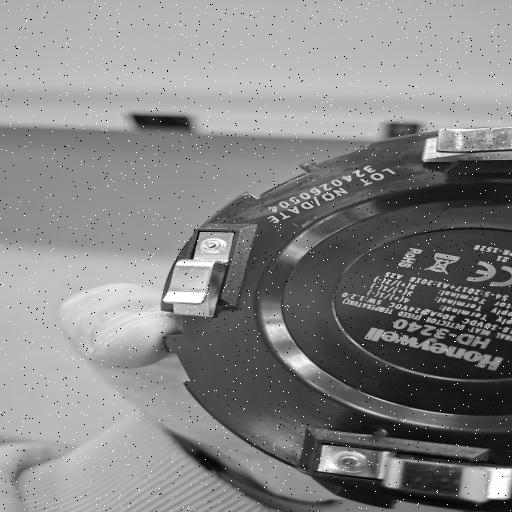yayli: (162, 225, 250, 327)
